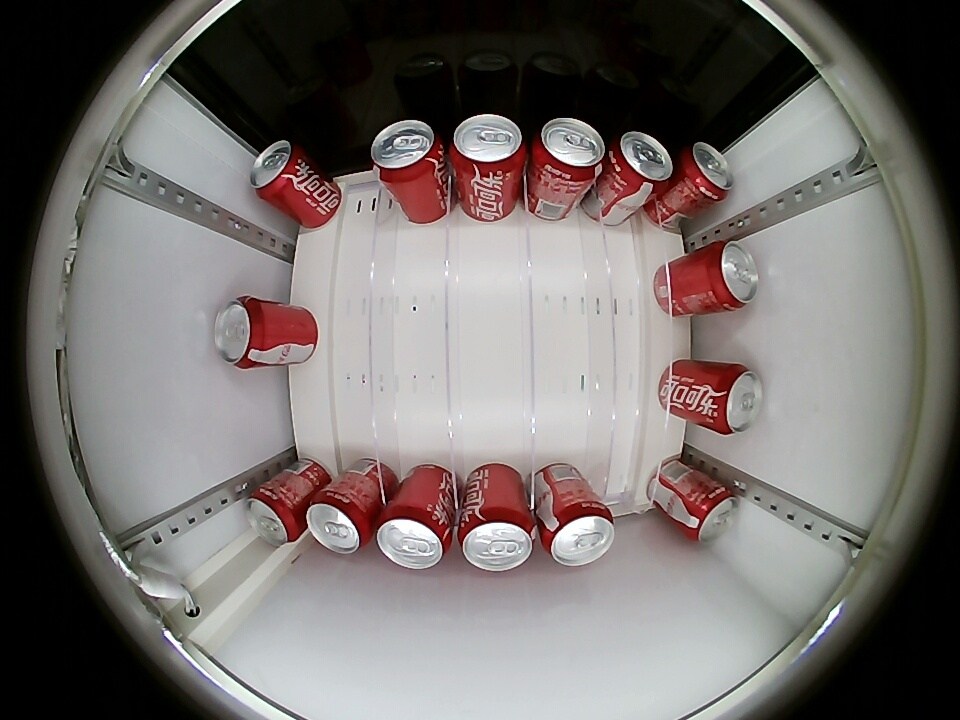kele: (375, 505, 453, 570), (458, 507, 536, 572), (540, 501, 616, 567), (450, 114, 526, 178), (370, 119, 446, 183), (532, 118, 606, 182), (306, 491, 373, 555), (213, 296, 270, 368), (703, 240, 760, 312), (607, 131, 673, 192), (708, 363, 763, 435), (245, 484, 303, 545), (683, 481, 739, 543), (249, 140, 305, 202), (679, 141, 734, 204)
